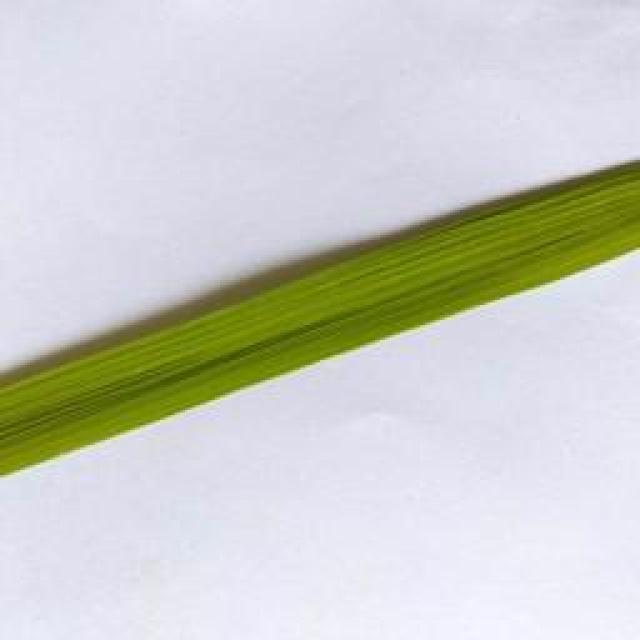Healthy-Plant: (0, 306, 183, 488), (306, 206, 499, 373), (481, 145, 640, 316), (174, 262, 322, 423)
